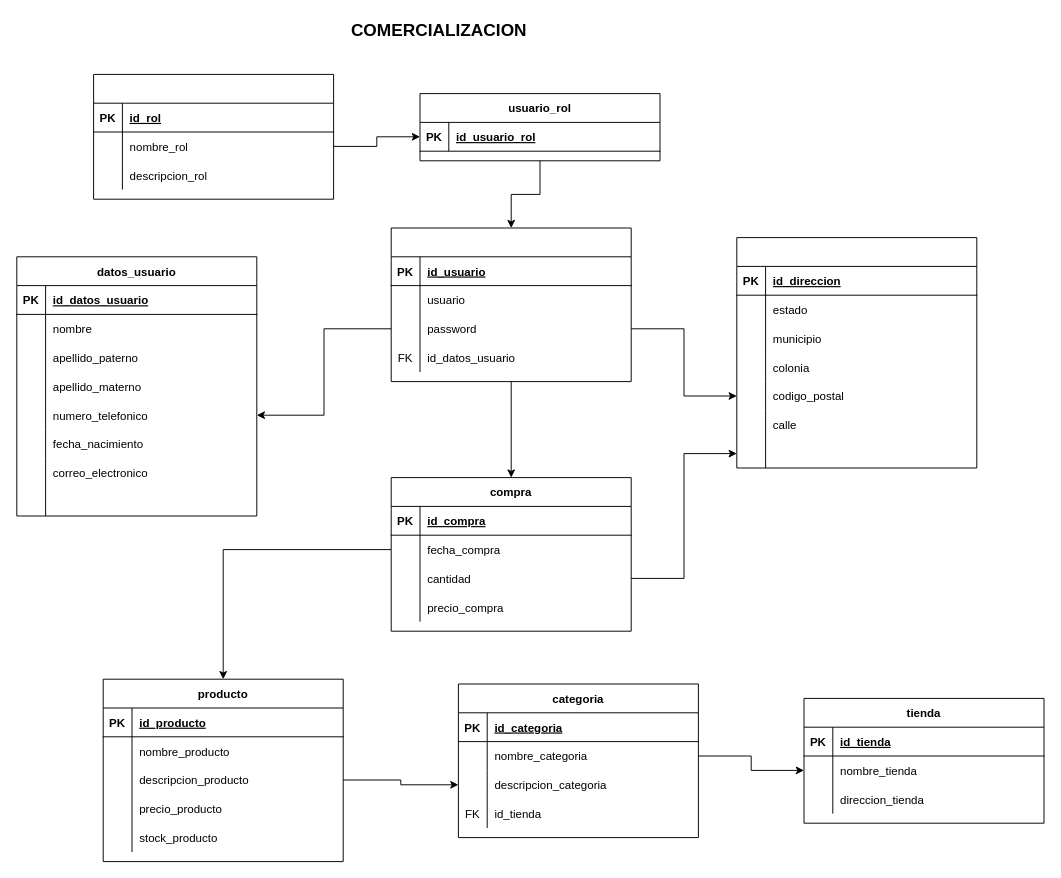
Image size: 1061x878. Some labels were removed from this diagram. The shapes that lost their labels are listed below. From the top down, each one's box as (x1, y1, x2, y2) in pixels, then its label:
(93, 73, 334, 199): roles
(390, 227, 631, 382): usuarios
(736, 237, 977, 468): direccion_usuario
